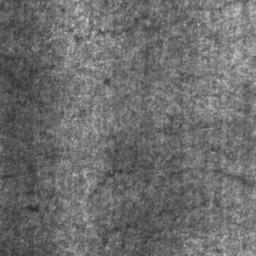Crazing: (88, 144, 254, 248), (0, 0, 256, 61), (0, 160, 67, 215), (180, 63, 256, 101), (67, 76, 119, 122), (127, 113, 180, 151), (0, 49, 64, 79), (188, 114, 241, 131), (97, 128, 119, 146)
